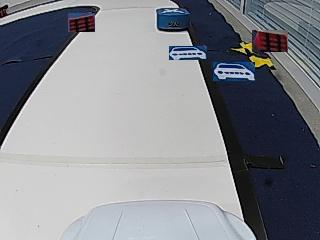prop: (157, 8, 190, 32)
